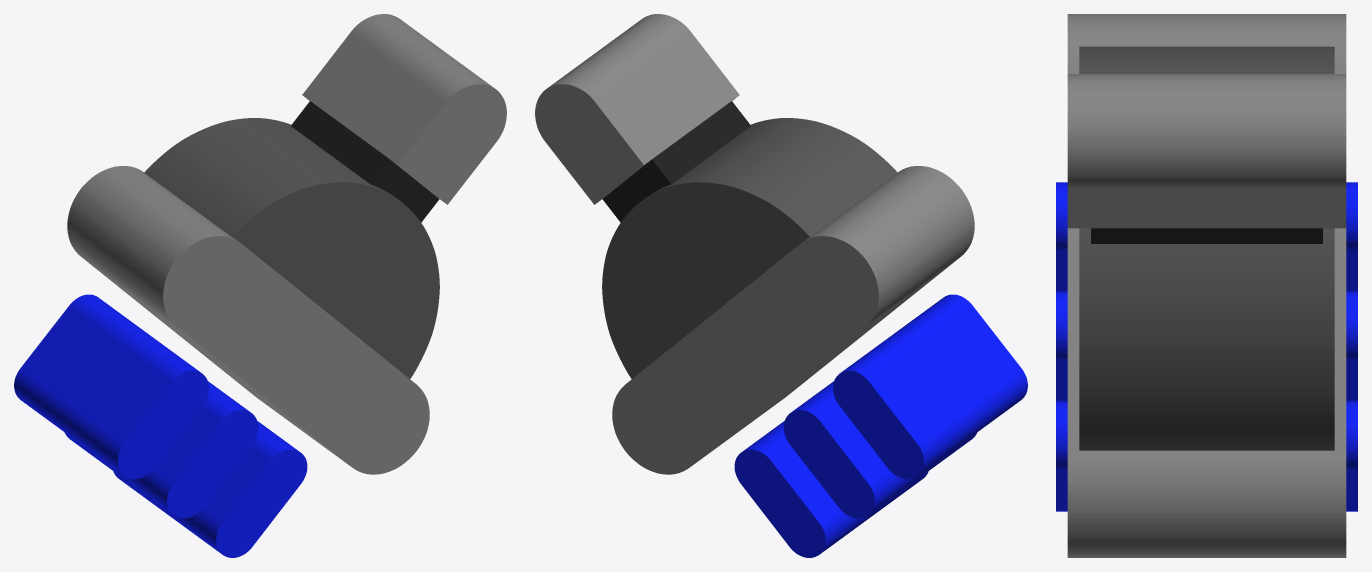
3 views of the same model, side by side, from view 1: azimuth 30°, elevation 25°; view 2: azimuth 150°, elevation 25°; view 3: azimuth 270°, elevation 25° (orthographic). The views are drawn at different scales.
Visible parts, largest first — view 1: U+1F6BF_layer02_obj00, U+1F6BF_layer03_obj00, U+1F6BF_layer01_obj00, U+1F6BF_layer00_obj00; view 2: U+1F6BF_layer02_obj00, U+1F6BF_layer03_obj00, U+1F6BF_layer01_obj00, U+1F6BF_layer00_obj00; view 3: U+1F6BF_layer02_obj00, U+1F6BF_layer01_obj00, U+1F6BF_layer03_obj00, U+1F6BF_layer00_obj00.
Boxes of the visible parts, box(x1,y1,x2,y2) form: U+1F6BF_layer02_obj00: box(67, 14, 506, 474); U+1F6BF_layer03_obj00: box(14, 294, 307, 557); U+1F6BF_layer01_obj00: box(144, 118, 439, 378); U+1F6BF_layer00_obj00: box(291, 101, 439, 222); U+1F6BF_layer02_obj00: box(535, 14, 974, 474); U+1F6BF_layer03_obj00: box(734, 294, 1027, 557); U+1F6BF_layer01_obj00: box(602, 118, 897, 378); U+1F6BF_layer00_obj00: box(602, 101, 750, 222); U+1F6BF_layer02_obj00: box(1067, 14, 1346, 557); U+1F6BF_layer01_obj00: box(1079, 46, 1334, 450); U+1F6BF_layer03_obj00: box(1056, 182, 1357, 511); U+1F6BF_layer00_obj00: box(1091, 228, 1322, 243).
Size of the model in its own units: 0.5681 by 0.568 by 0.26.
